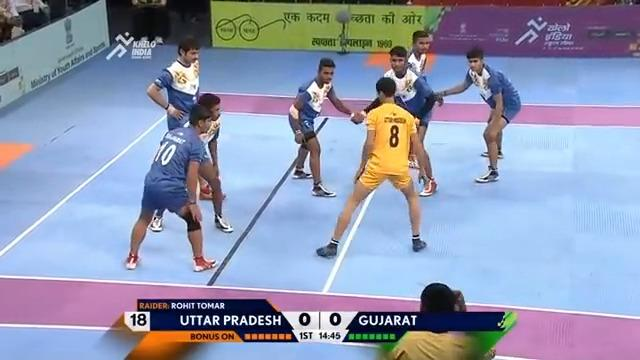Player: (144, 35, 234, 234), (123, 103, 220, 273), (432, 46, 522, 183), (286, 55, 362, 198), (145, 36, 204, 130)
Raider: (315, 76, 430, 260)
referee: (385, 281, 517, 359)
